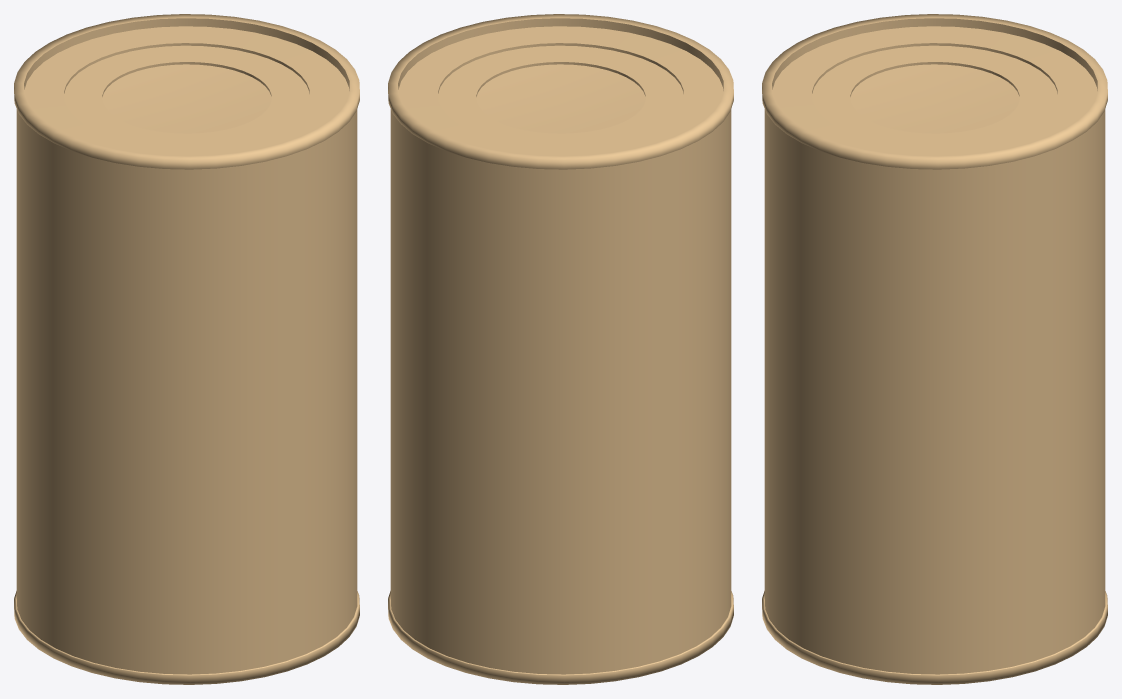
File: generic_beans.gltf
3 renders of one model, left to right at view 1: azimuth 30°, elevation 25°; view 2: azimuth 150°, elevation 25°; view 3: azimuth 270°, elevation 25°, orthographic.
Visible parts, largest first — view 1: long_life_food_beans; view 2: long_life_food_beans; view 3: long_life_food_beans.
Part boxes in pixels (x1,y1,x2,y2): long_life_food_beans: [14, 14, 359, 684]; long_life_food_beans: [388, 14, 733, 684]; long_life_food_beans: [762, 14, 1107, 684].
Size of the model in its own units: 0.0883 by 0.1475 by 0.0881.
